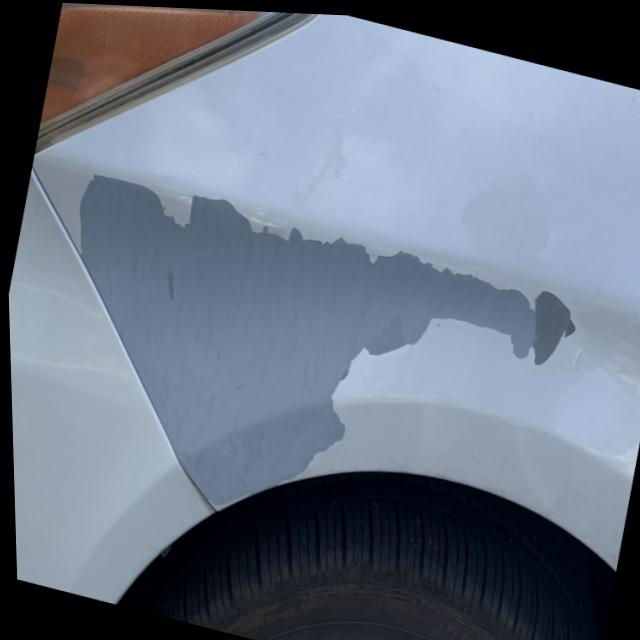Paint-fading: (75, 160, 582, 522)
